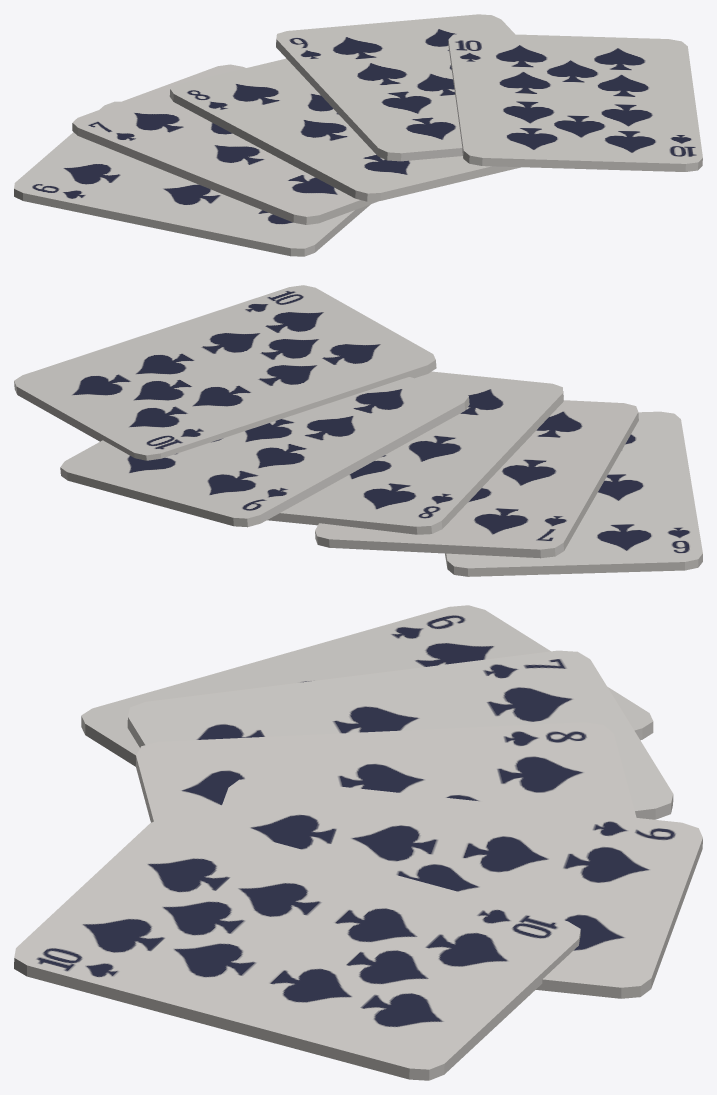
File: SM_Item_Playing_Card_Hand_02.fbx
3 renders of one model, top to bottom at view 1: azimuth 30°, elevation 25°; view 2: azimuth 150°, elevation 25°; view 3: azimuth 270°, elevation 25°, orthographic. The views are drawn at different scales.
Visible parts, largest first — view 1: SM_Item_Playing_Card_Hand_02; view 2: SM_Item_Playing_Card_Hand_02; view 3: SM_Item_Playing_Card_Hand_02.
Boxes of the visible parts, box(x1,y1,x2,y2) form: SM_Item_Playing_Card_Hand_02: box(14, 14, 702, 256); SM_Item_Playing_Card_Hand_02: box(14, 285, 702, 576); SM_Item_Playing_Card_Hand_02: box(14, 605, 702, 1080).
Bounding box in the file's own units: 36.75 × 1.87 × 23.22.
